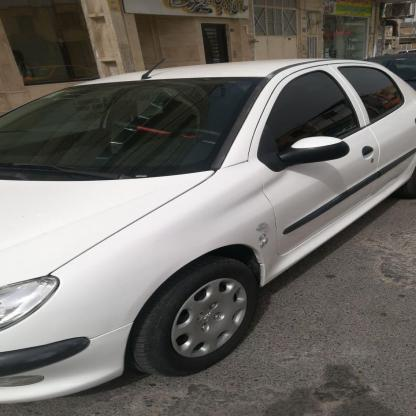Car: (0, 64, 416, 396)
